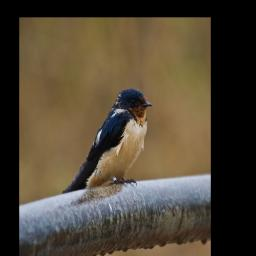Swallow: (62, 87, 154, 195)
